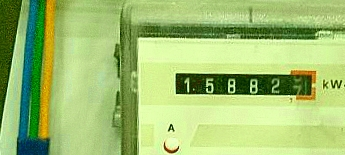1: (181, 75, 191, 93)
2: (269, 76, 280, 94)
5: (203, 76, 214, 94)
7: (291, 84, 302, 95)
8: (224, 76, 236, 94), (247, 76, 258, 94)
screen: (165, 61, 322, 108)
